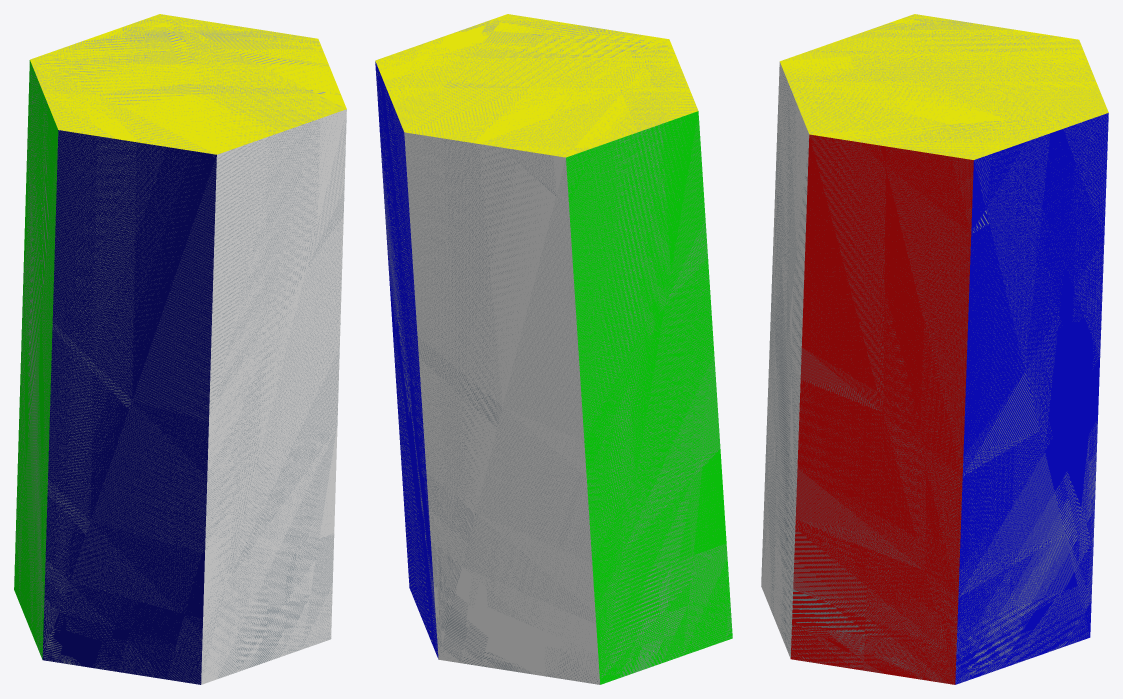
File: second.dae
3 views of the same model, side by side, from view 1: azimuth 30°, elevation 25°; view 2: azimuth 150°, elevation 25°; view 3: azimuth 270°, elevation 25° (orthographic). The views are drawn at different scales.
Visible parts, largest first — view 1: SketchUp (×4); view 2: SketchUp (×4); view 3: SketchUp (×4).
Boxes of the visible parts, x1,y1,x2,y2 form: SketchUp (×4): (14,14,346,684); SketchUp (×4): (375,14,732,684); SketchUp (×4): (761,14,1108,684).
Size of the model in its own units: 72508 by 67142 by 114497.
